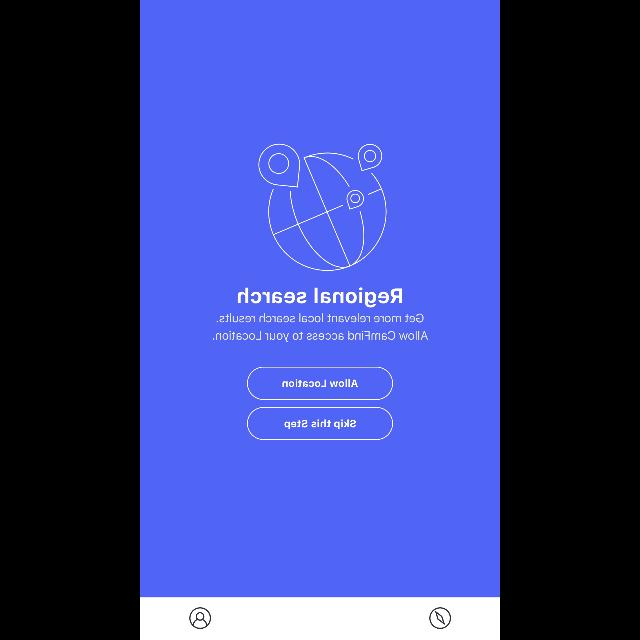icon: (429, 607, 451, 629), (189, 607, 211, 629)
image: (258, 143, 386, 271)
text: (212, 314, 428, 342), (238, 287, 402, 307)
textbutton: (247, 366, 393, 399), (247, 406, 393, 439)
